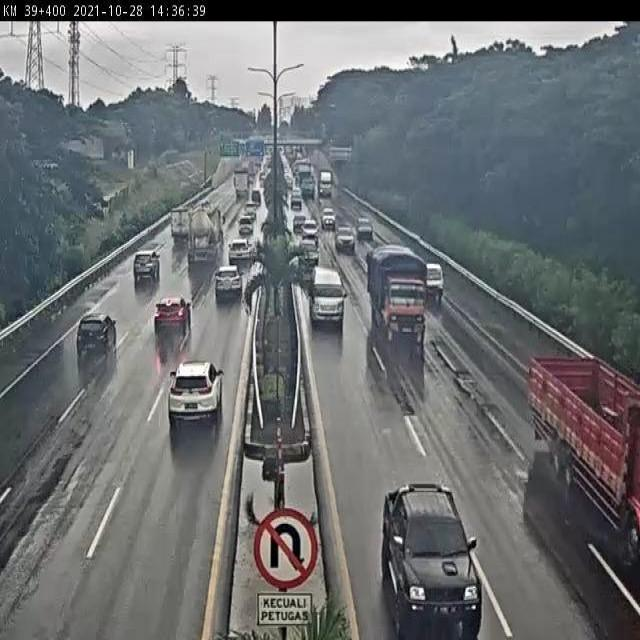truck-m-: (366, 246, 427, 346)
truck-xl-: (186, 203, 224, 261)
